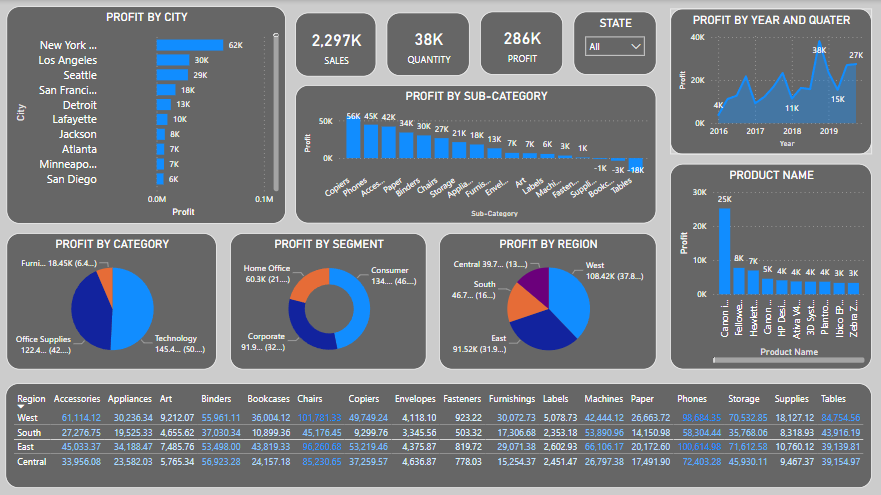

The dashboard page shown, as its layout file describes it:
{"tool":"powerbi","page":{"name":"Profit","canvas":[1280,720],"ordinal":1},"visuals":[{"type":"columnChart","title":" PROFIT BY SUB-CATEGORY","fields":{"Category":["Orders.Sub-Category"],"Y":["Sum(Orders.Profit)"]},"box":[432.6,122.9,522.1,200.3],"z":0},{"type":"slicer","title":"STATE","fields":{"Values":["Orders.State"]},"box":[834.8,16.7,119.9,91.1],"z":1000},{"type":"card","fields":{"Values":["Sum(Orders.Profit)"]},"box":[699.7,16.7,119.9,91.1],"z":2000},{"type":"card","fields":{"Values":["Sum(Orders.Sales)"]},"box":[432.6,18.2,116.9,92.6],"z":3000},{"type":"card","fields":{"Values":["Sum(Orders.Quantity)"]},"box":[564.6,18.2,119.9,91.1],"z":4000},{"type":"areaChart","title":"PROFIT BY YEAR AND QUATER","fields":{"Category":["Orders.Order Date.Variation.Date Hierarchy.Year","Orders.Order Date.Variation.Date Hierarchy.Quarter","Orders.Order Date.Variation.Date Hierarchy.Month","Orders.Order Date.Variation.Date Hierarchy.Day"],"Y":["Sum(Orders.Profit)"]},"box":[974.4,12.1,291.4,211],"z":5000},{"type":"pivotTable","fields":{"Columns":["Orders.Sub-Category"],"Values":["Sum(Orders.Sales)"],"Rows":["Orders.Region"]},"box":[13.7,554,1252.2,151.8],"z":6000},{"type":"pieChart","title":"PROFIT BY REGION","fields":{"Y":["Sum(Orders.Profit)"],"Category":["Orders.Region"]},"box":[640.5,336.9,314.2,197.3],"z":7000},{"type":"donutChart","title":"PROFIT BY SEGMENT","fields":{"Y":["Sum(Orders.Profit)"],"Category":["Orders.Segment"]},"box":[337.7,336.9,283.8,197.3],"z":8000},{"type":"pieChart","title":"PROFIT BY CATEGORY","fields":{"Category":["Orders.Category"],"Y":["Sum(Orders.Profit)"]},"box":[15.2,336.9,303.6,197.3],"z":9000},{"type":"barChart","title":"PROFIT BY CITY","fields":{"Category":["Orders.City"],"Y":["Sum(Orders.Profit)"]},"box":[15.2,9.1,403.7,314.2],"z":10000},{"type":"clusteredColumnChart","title":"PRODUCT NAME","fields":{"Category":["Orders.Product Name"],"Y":["Sum(Orders.Profit)"]},"box":[974.4,236.8,291.4,297.5],"z":11000}]}

Visuals, with their boxes in screenshot pixels (x1, y1, x2, y2), scaled from the page's 1280x720 canvas onto the 881x495 screenshot:
" PROFIT BY SUB-CATEGORY" columnChart: l=298, t=84, r=657, b=222
"STATE" slicer: l=575, t=11, r=657, b=74
card - Sum(Orders.Profit): l=482, t=11, r=564, b=74
card - Sum(Orders.Sales): l=298, t=13, r=378, b=76
card - Sum(Orders.Quantity): l=389, t=13, r=471, b=75
"PROFIT BY YEAR AND QUATER" areaChart: l=671, t=8, r=871, b=153
pivotTable - Orders.Sub-Category x Sum(Orders.Sales): l=9, t=381, r=871, b=485
"PROFIT BY REGION" pieChart: l=441, t=232, r=657, b=367
"PROFIT BY SEGMENT" donutChart: l=232, t=232, r=428, b=367
"PROFIT BY CATEGORY" pieChart: l=10, t=232, r=219, b=367
"PROFIT BY CITY" barChart: l=10, t=6, r=288, b=222
"PRODUCT NAME" clusteredColumnChart: l=671, t=163, r=871, b=367
